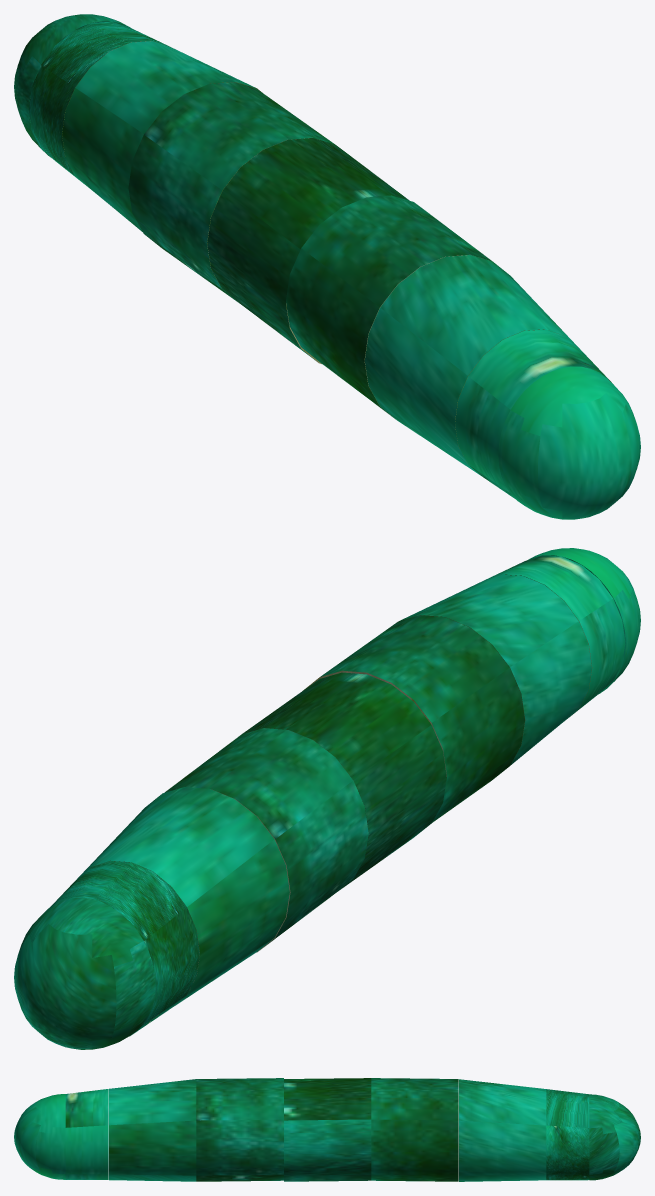
File: CucumberCuts.fbx
The picture shows the model from 3 angles, top to bottom: view 1: azimuth 30°, elevation 25°; view 2: azimuth 150°, elevation 25°; view 3: azimuth 270°, elevation 25°; orthographic projection. The views are drawn at different scales.
Visible parts, largest first — view 1: polySurface18, polySurface39, polySurface38, polySurface22, polySurface16, polySurface35, polySurface36; view 2: polySurface36, polySurface35, polySurface16, polySurface38, polySurface22, polySurface39, polySurface18; view 3: polySurface22, polySurface16, polySurface38, polySurface39, polySurface35, polySurface36, polySurface18.
Part boxes in pixels (x1,y1,x2,y2): polySurface18: (455,329,640,519); polySurface39: (364,255,579,476); polySurface38: (286,195,491,419); polySurface22: (207,138,409,363); polySurface16: (128,82,334,302); polySurface35: (62,41,262,231); polySurface36: (14,14,169,185); polySurface36: (14,861,199,1049); polySurface35: (77,787,289,1007); polySurface16: (165,728,368,952); polySurface38: (303,615,524,822); polySurface22: (242,672,446,890); polySurface39: (399,574,591,765); polySurface18: (484,548,640,718); polySurface22: (284,1078,371,1181); polySurface16: (371,1078,458,1181); polySurface38: (196,1078,283,1181); polySurface39: (109,1079,196,1181); polySurface35: (459,1079,546,1181); polySurface36: (546,1089,640,1180); polySurface18: (14,1089,108,1179).
Size of the model in its own units: 2.01 by 2.02 by 12.12.
